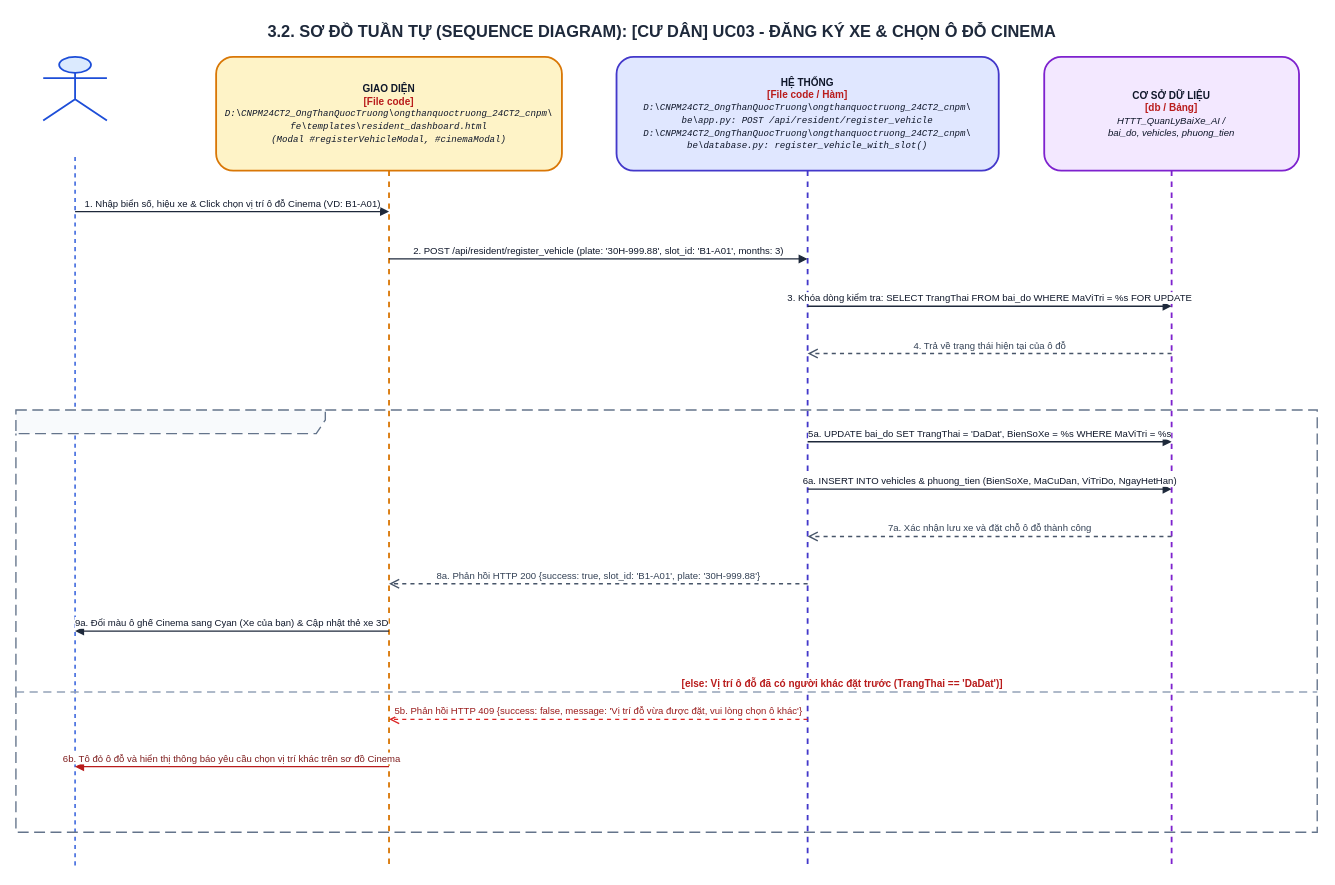
Some shapes in this 1335 by 885 pixel diagram are drawn without their labels. Each missing label, with the centre of its shape:
"alt [Ô đỗ còn TRỐNG (TrangThai == 'Trong')]" belongs at pixel 666 620.
"TÁC NHÂN Cư Dân (Resident)" belongs at pixel 74 88.
